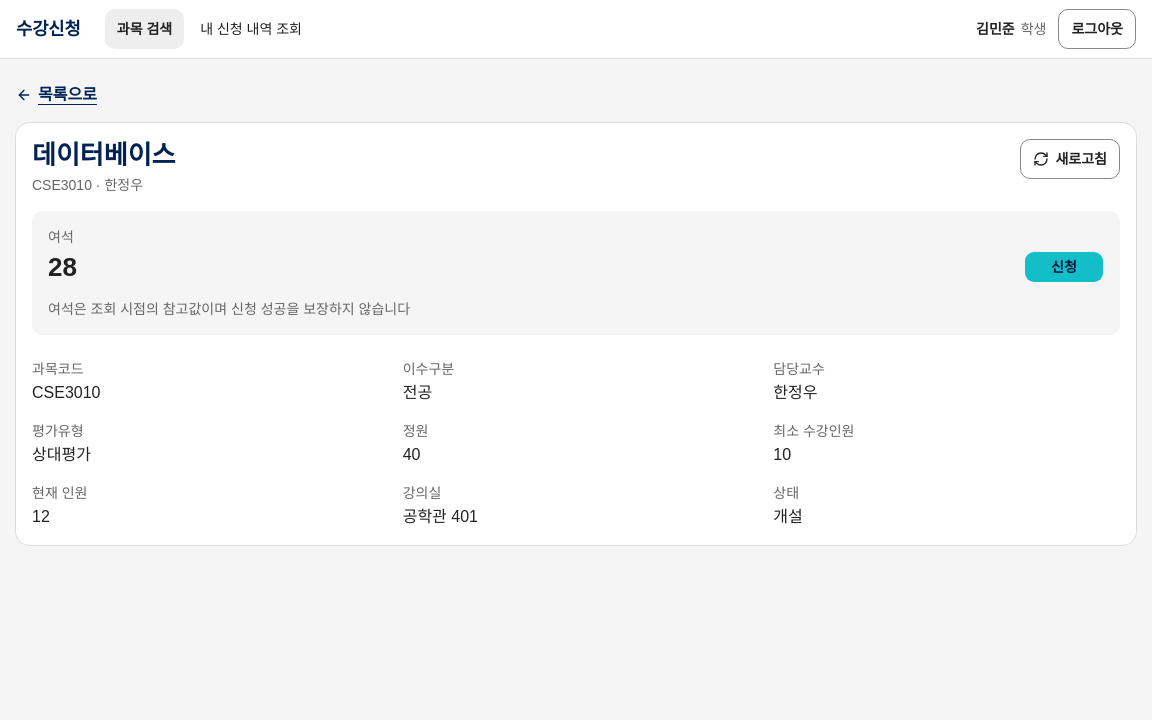
Test: T2-07 갱신 응답 유실은 자동 갱신을 막는다
This screenshot has width=1152, height=720.
Click the button "새로고침".
click(1070, 159)  # box [1020,139,1120,179]
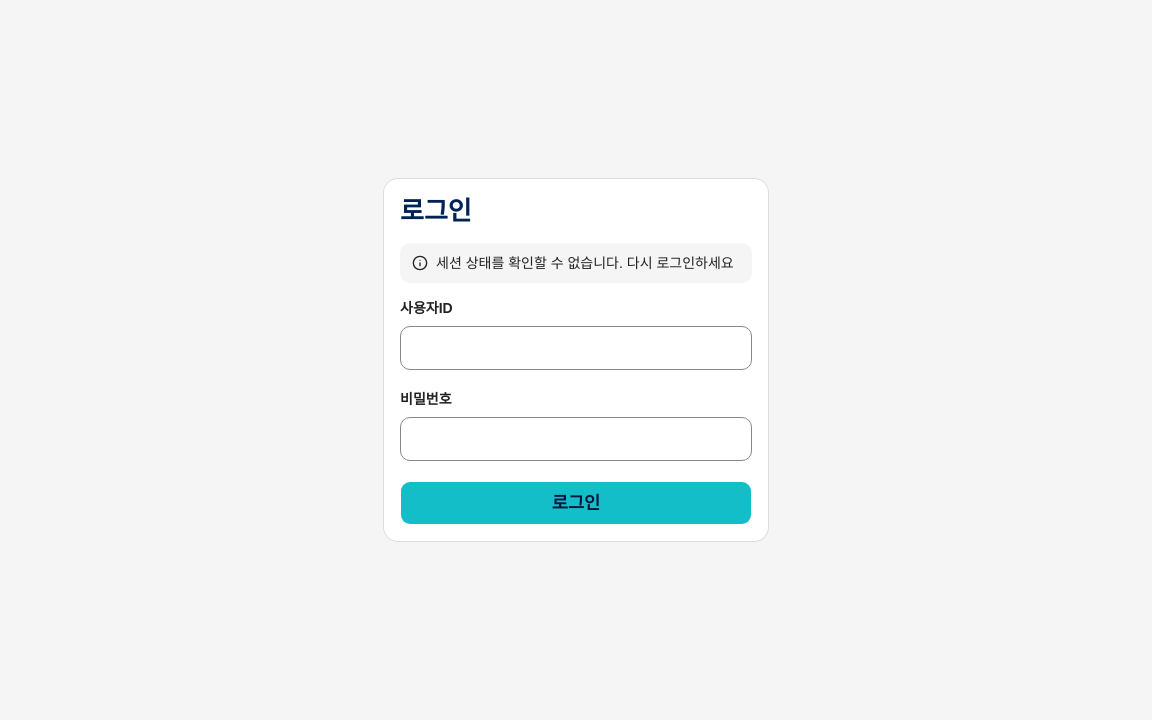
Result: the message with test id "entry-notice" reads "세션 상태를 확인할 수 없습니다. 다시 로그인하세요" at [436,255,734,271]
